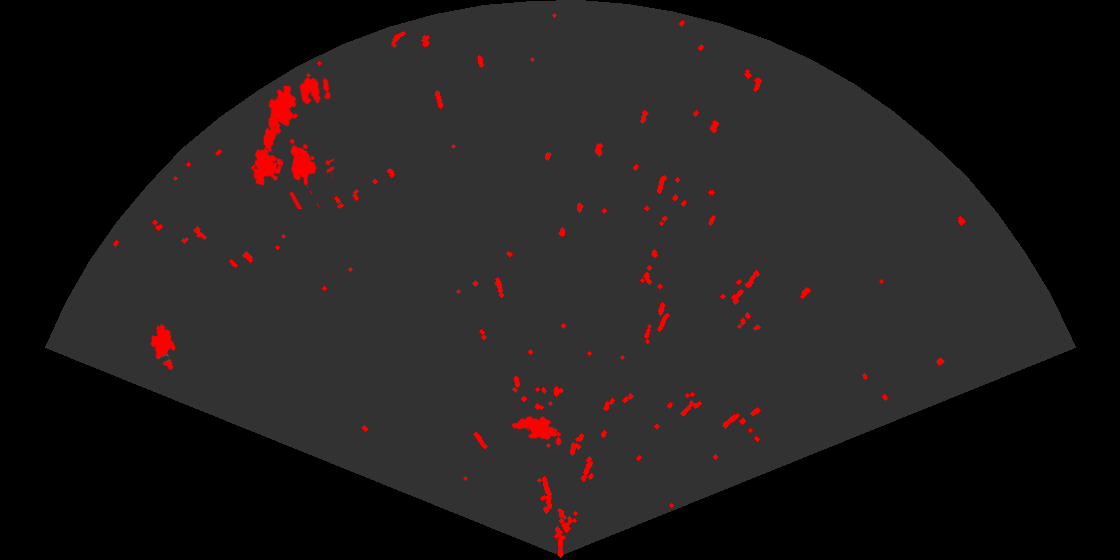AUV: (149, 322, 177, 372), (510, 415, 559, 441)
ball: (298, 76, 333, 106)
cage: (252, 137, 334, 209)
frogman: (262, 86, 300, 156)
